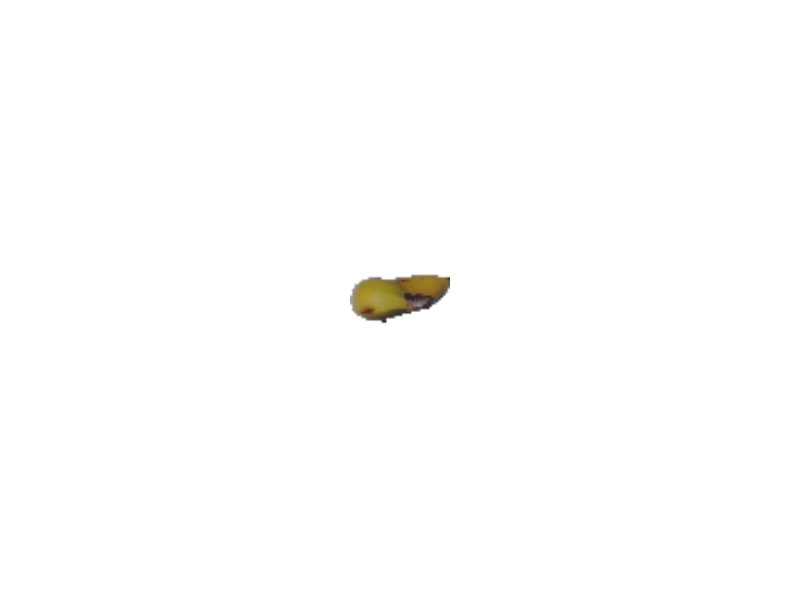banana: (349, 272, 455, 321)
